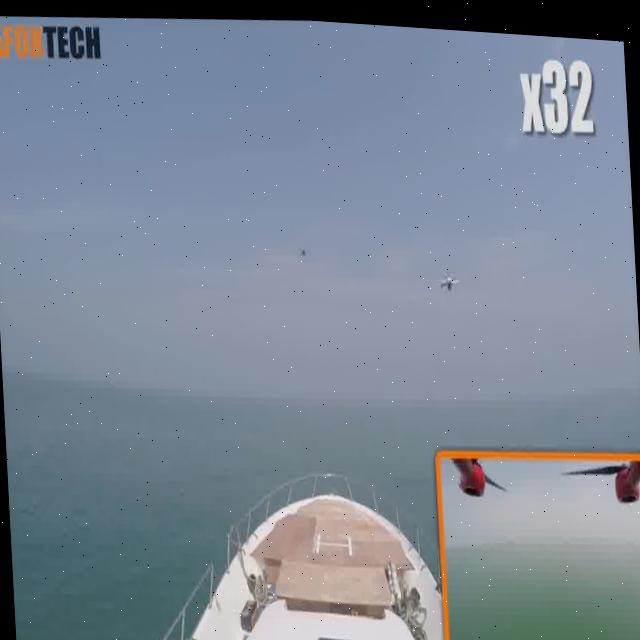drone: (437, 256, 462, 294), (288, 230, 314, 262)
